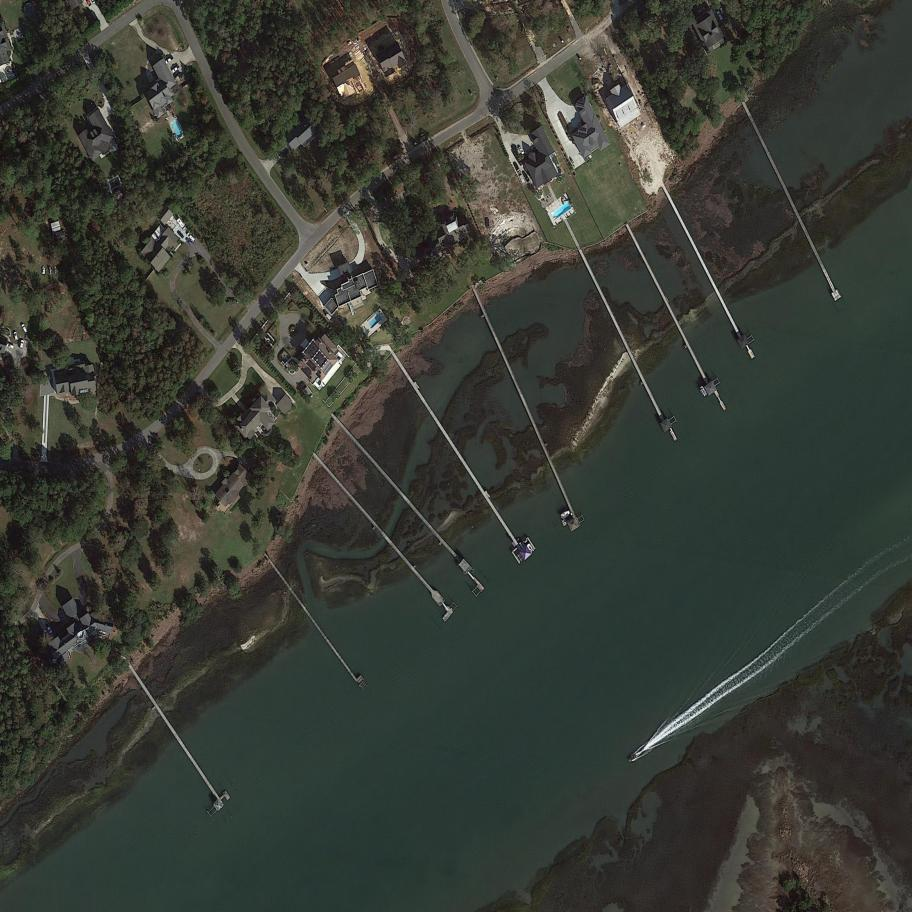ship: (526, 542, 536, 554), (699, 385, 708, 398), (560, 510, 571, 520)
small-vehicle: (176, 217, 187, 231), (512, 161, 521, 174), (521, 170, 530, 182), (186, 232, 195, 243), (715, 9, 723, 21), (20, 323, 29, 333), (164, 56, 173, 65), (171, 65, 179, 74), (184, 238, 193, 246), (177, 230, 185, 239), (18, 340, 25, 350), (46, 624, 53, 634), (518, 146, 525, 155), (13, 331, 19, 341), (485, 217, 490, 228), (6, 343, 15, 349), (48, 266, 52, 275), (42, 266, 46, 274)
